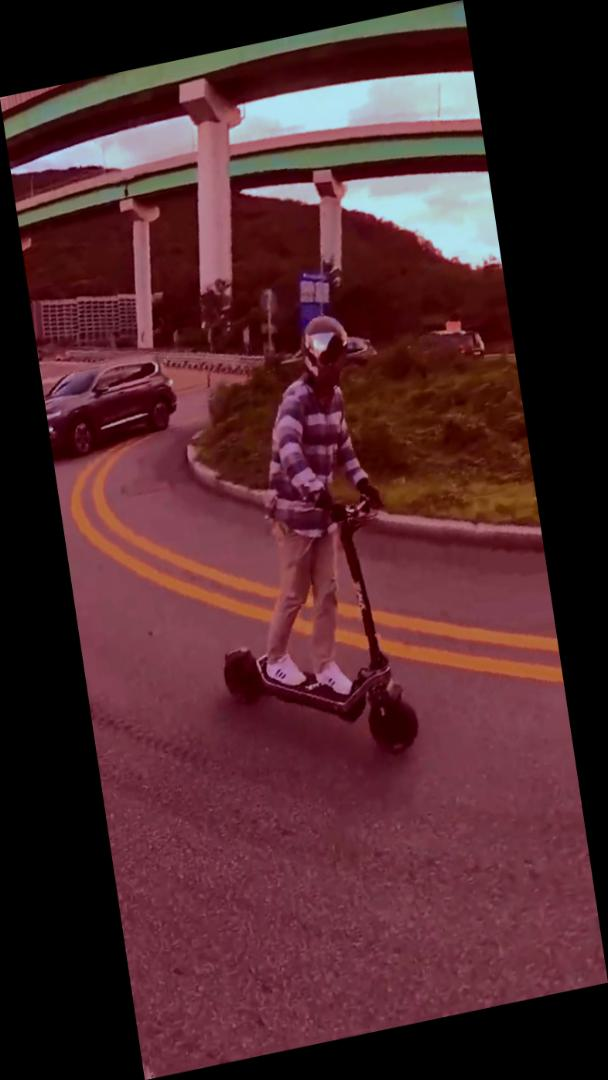helmet: (172, 301, 426, 790)
